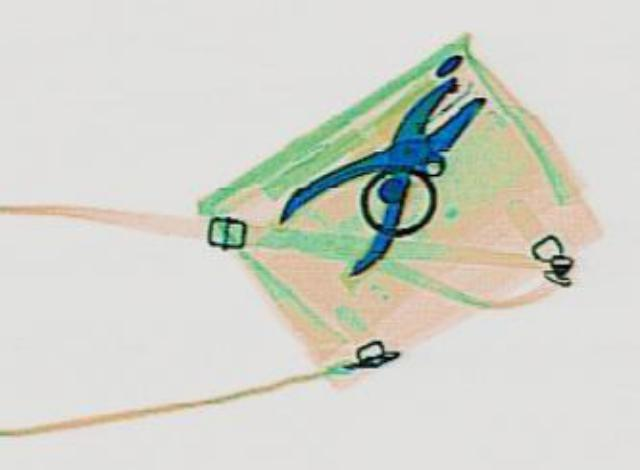Pliers: (248, 58, 528, 277)
